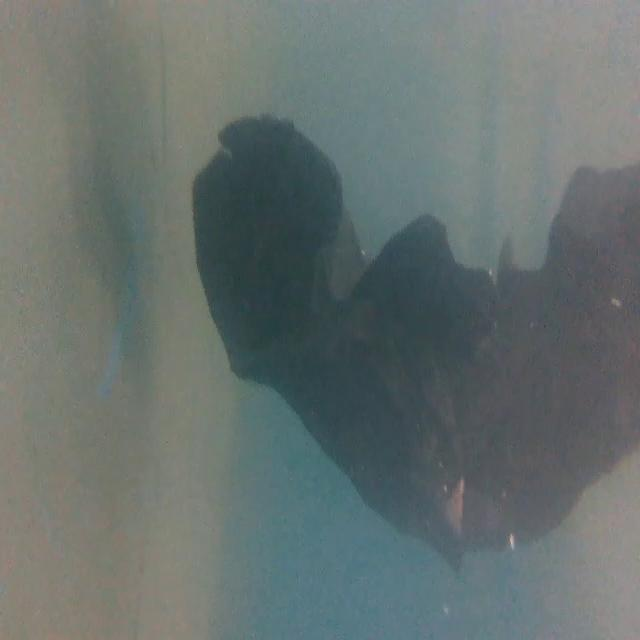plastic bags: (180, 110, 640, 574)
